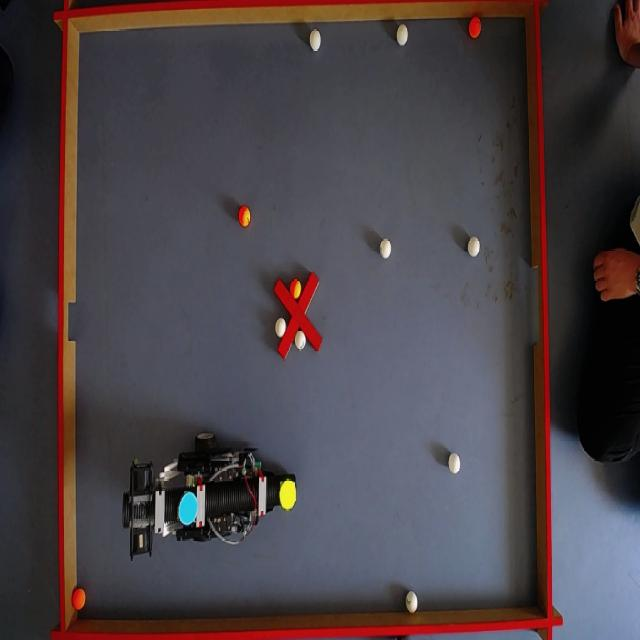orange: (466, 18, 481, 40), (73, 592, 86, 612), (239, 210, 253, 228)
robot: (116, 438, 304, 557)
robot-front: (279, 478, 297, 512)
robot-rear: (178, 492, 199, 524)
white: (395, 24, 411, 46), (308, 29, 322, 52), (404, 591, 418, 613), (468, 236, 481, 257), (379, 238, 392, 258), (294, 331, 307, 351), (449, 453, 462, 473), (275, 319, 286, 338)
